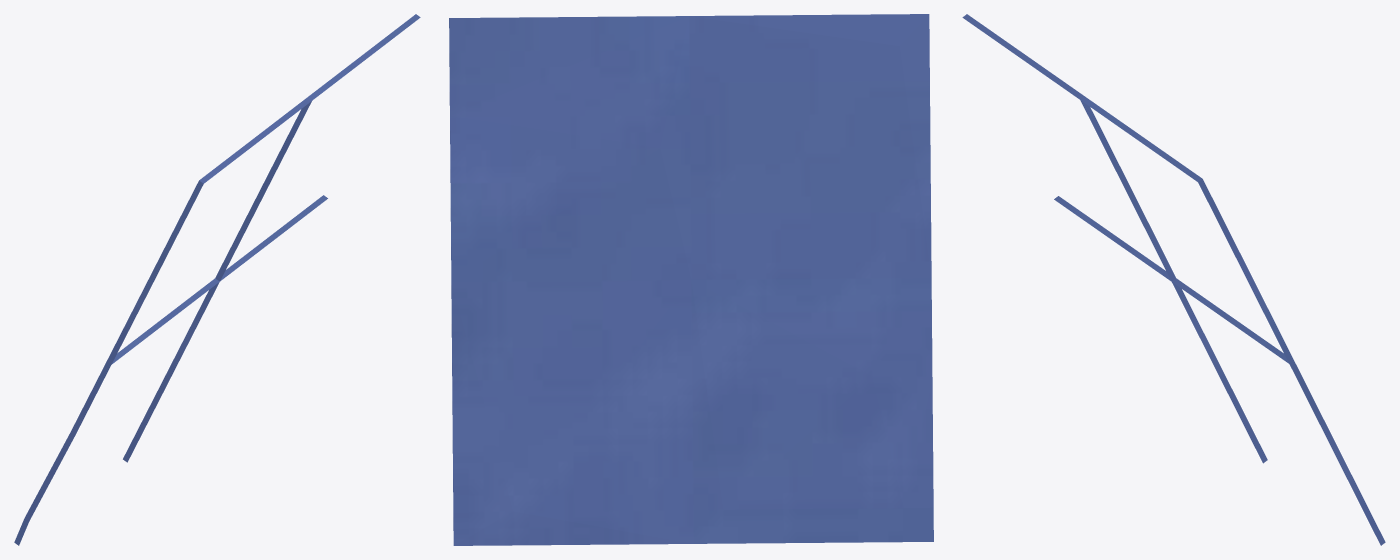
3 views of the same model, side by side, from view 1: azimuth 30°, elevation 25°; view 2: azimuth 150°, elevation 25°; view 3: azimuth 270°, elevation 25° (orthographic). The views are drawn at different scales.
Bounding box in the file's own units: 9815 × 8881 × 8255.
Materials: 1 (1 with a texture image).
